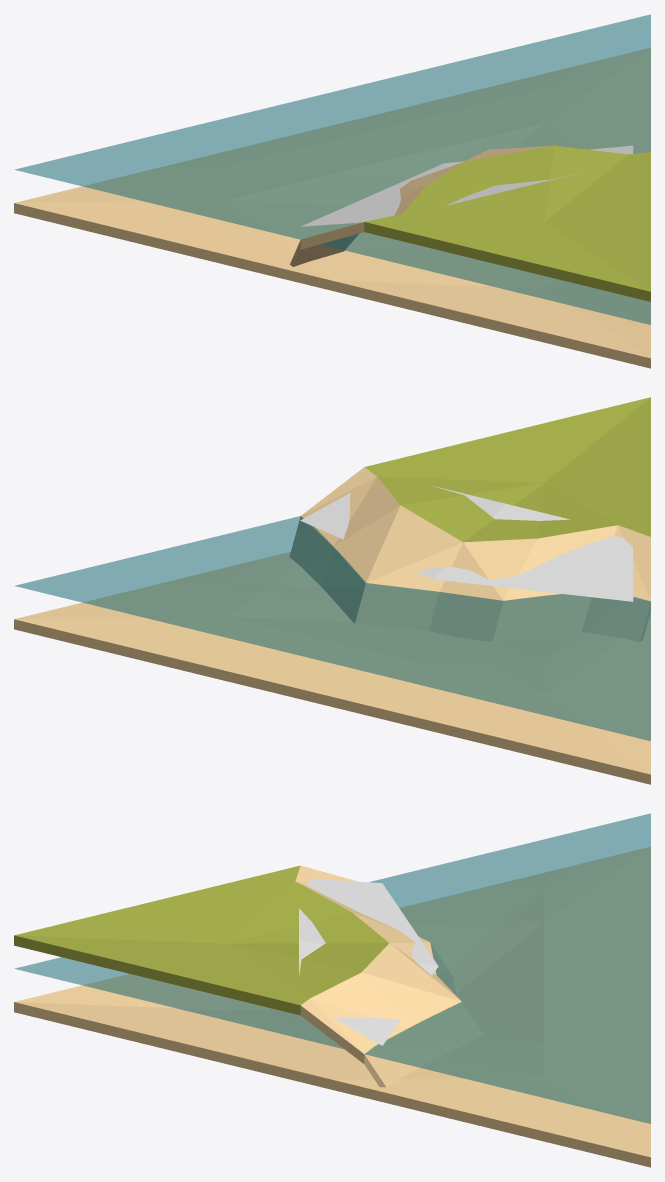
Rendered from tile7.glb.
The picture shows the model from 3 angles, top to bottom: view 1: azimuth 30°, elevation 25°; view 2: azimuth 150°, elevation 25°; view 3: azimuth 270°, elevation 25°; orthographic projection.
Visible parts, largest first — view 1: sand7, water4.001, ground.008, grass7; view 2: sand7, water4.001, ground.008, grass7; view 3: sand7, water4.001, ground.008, grass7.
Part boxes in pixels (x1,y1,x2,y2): sand7: (14, 48, 650, 368); water4.001: (15, 14, 650, 324); ground.008: (290, 145, 650, 301); grass7: (301, 145, 633, 226); sand7: (14, 552, 650, 784); water4.001: (15, 516, 650, 740); ground.008: (289, 397, 650, 642); grass7: (300, 485, 633, 601); sand7: (14, 847, 650, 1167); water4.001: (15, 813, 650, 1123); ground.008: (14, 865, 483, 1087); grass7: (299, 878, 438, 1045).
Bounding box in the file's own units: 1 × 0.1195 × 0.866.
